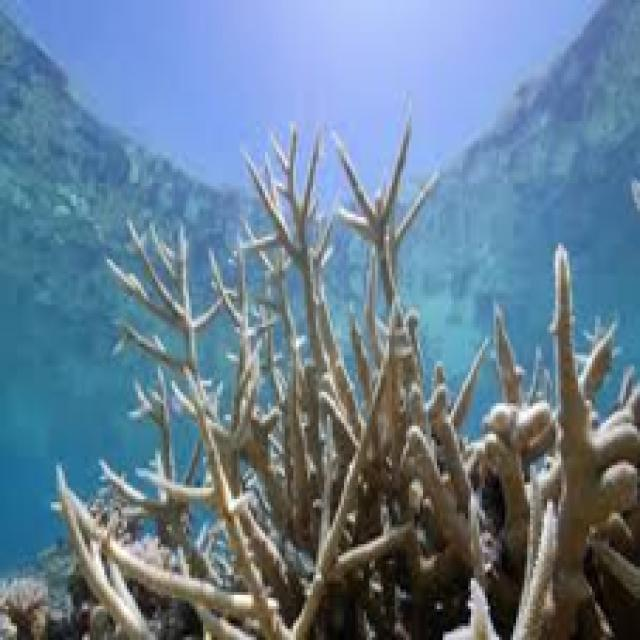Healthy: (57, 128, 638, 638)
